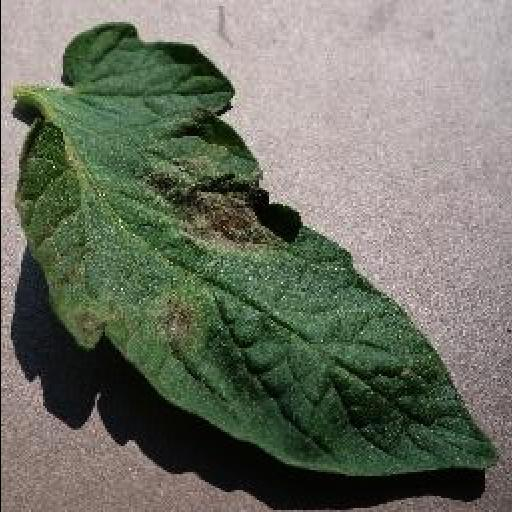disease_tomato: (13, 24, 503, 478)
